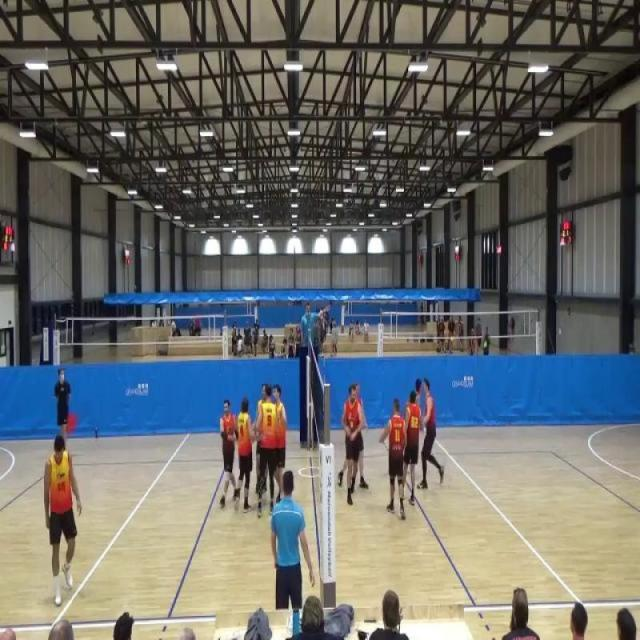volleyball: (449, 335, 456, 348)
